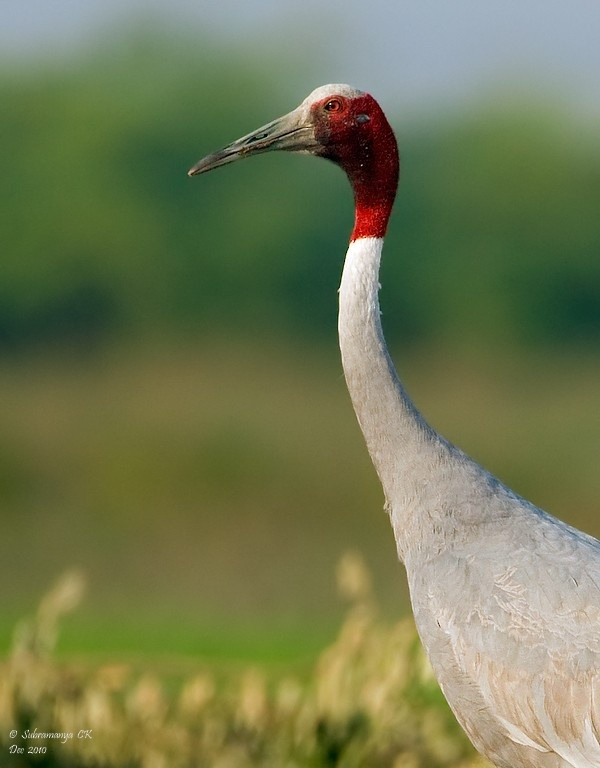crane: (183, 76, 600, 768)
